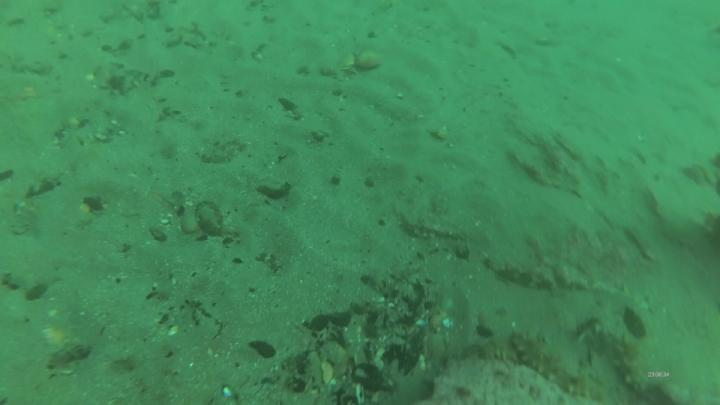holothurian: (510, 328, 590, 394), (619, 334, 650, 393)
